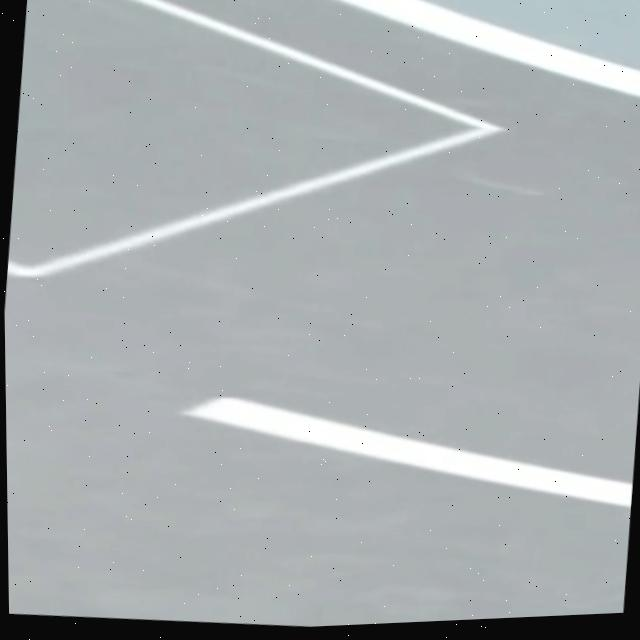center: (183, 396, 632, 506)
left: (349, 0, 640, 94)
